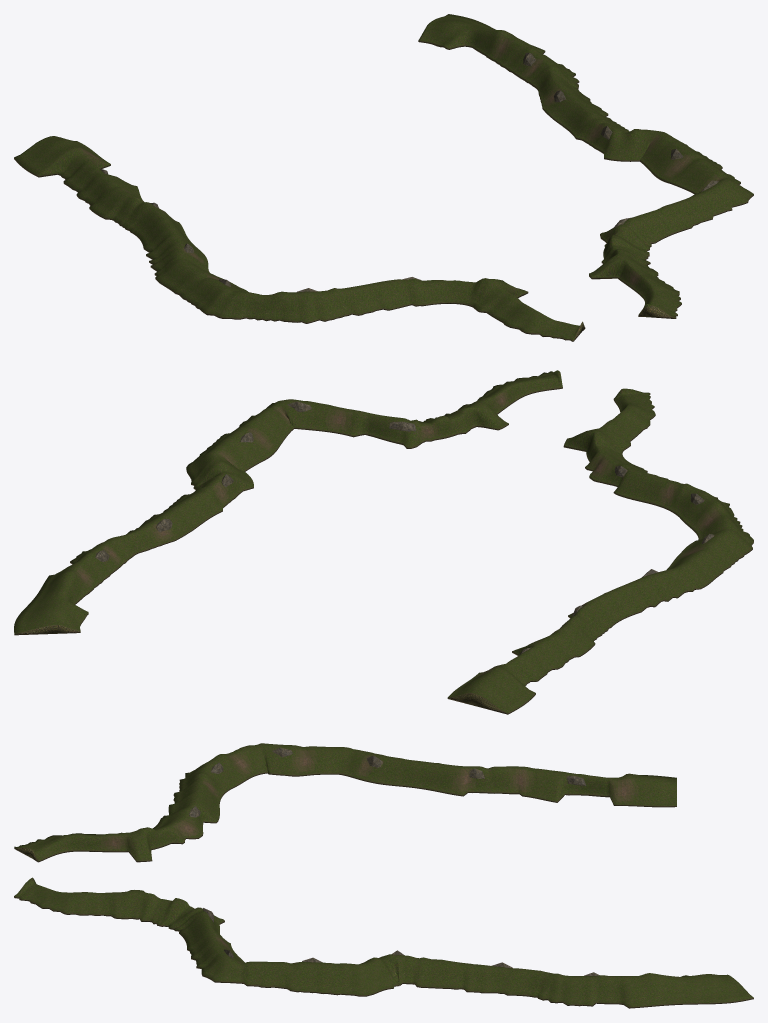
File: level_camp_banks_green.glb
3 renders of one model, top to bottom at view 1: azimuth 30°, elevation 25°; view 2: azimuth 150°, elevation 25°; view 3: azimuth 270°, elevation 25°, orthographic. The views are drawn at different scales.
Visible parts, largest first — view 1: level_camp_banks_green; view 2: level_camp_banks_green; view 3: level_camp_banks_green.
Boxes of the visible parts, x1,y1,x2,y2 form: level_camp_banks_green: [14, 14, 753, 341]; level_camp_banks_green: [14, 370, 753, 714]; level_camp_banks_green: [14, 743, 753, 1008].
Bounding box in the file's own units: 65.85 × 5.16 × 83.79.
Materials: 6 (6 with a texture image).
